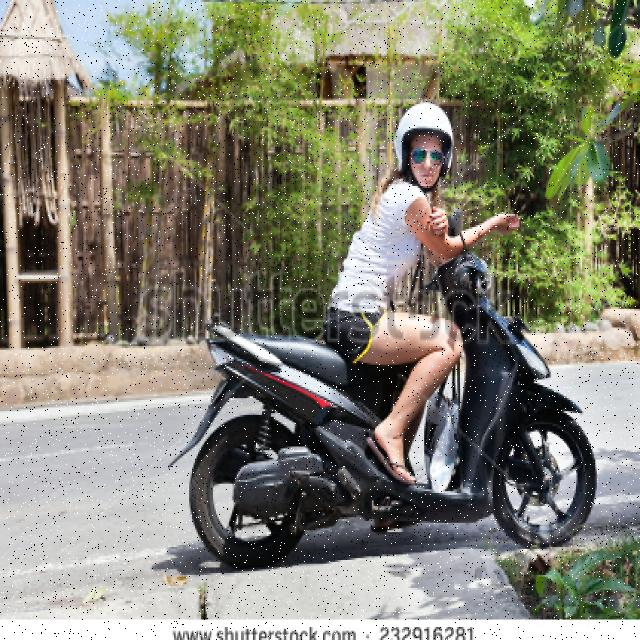not_triplets: (178, 76, 597, 554)
with-helmet: (387, 95, 458, 193)
